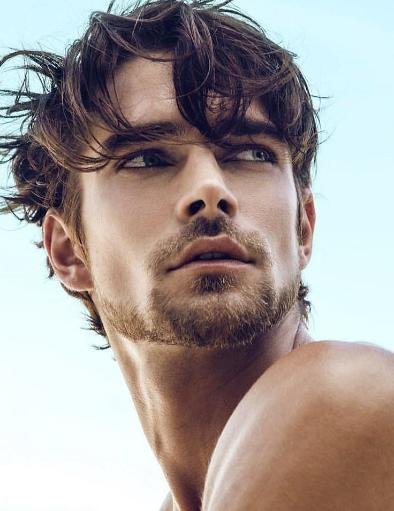left_eye: (225, 149, 277, 173)
left_lip_corner: (243, 253, 262, 278)
right_eye: (118, 149, 179, 180)
right_lip_corner: (162, 261, 185, 283)
